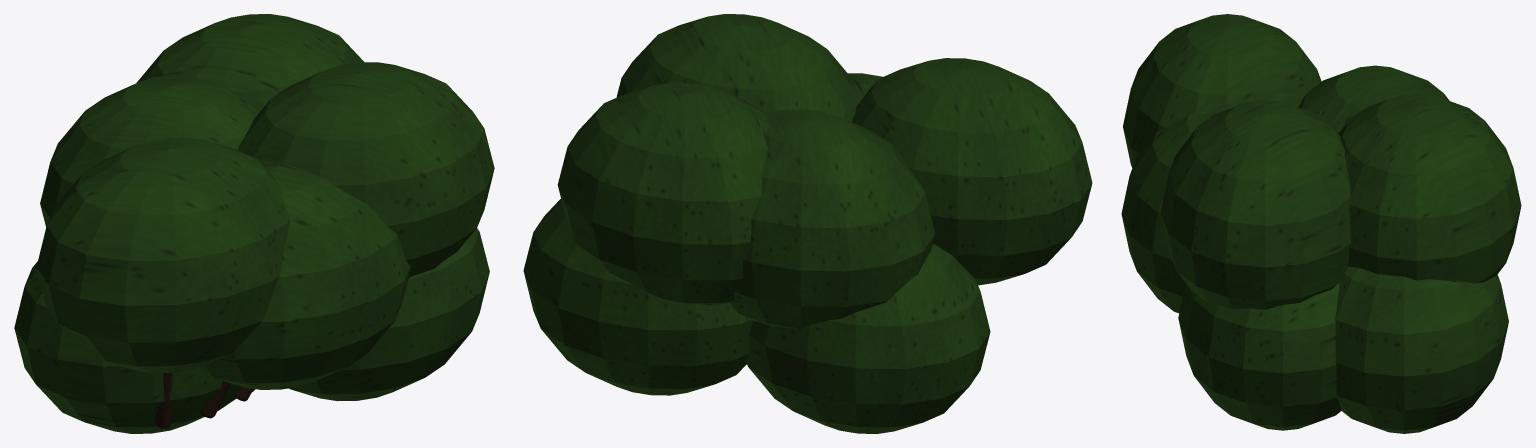
The model's file is PROP-1E72768CE36F_lod0.glb.
3 views of the same model, side by side, from view 1: azimuth 30°, elevation 25°; view 2: azimuth 150°, elevation 25°; view 3: azimuth 270°, elevation 25° (orthographic). The views are drawn at different scales.
Parts seen in each view (by area): view 1: foliage.003, plant_stem.003; view 2: foliage.003; view 3: foliage.003.
Boxes of the visible parts, left/top/right/bottom form: foliage.003: left=14, top=14, right=494, bottom=433; plant_stem.003: left=155, top=373, right=255, bottom=428; foliage.003: left=523, top=14, right=1092, bottom=433; foliage.003: left=1121, top=14, right=1521, bottom=433.
Bounding box in the file's own units: 1.15 × 0.7983 × 0.9162.
2 materials, 2 textured.
